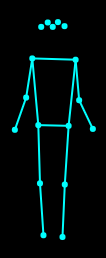mountain: (8, 14, 98, 243)
